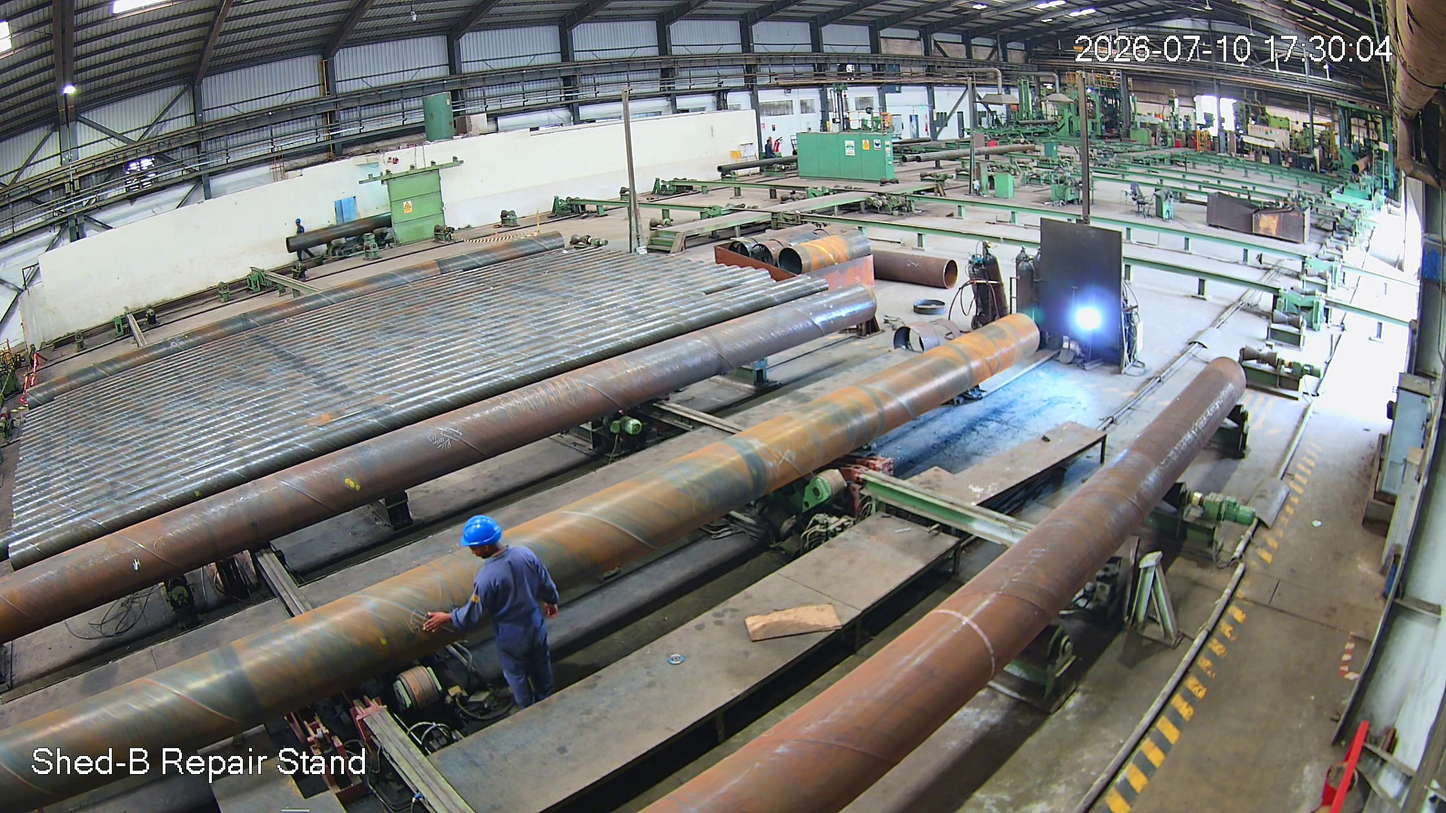Helmet: (457, 502, 519, 568)
Person: (450, 508, 567, 712)
